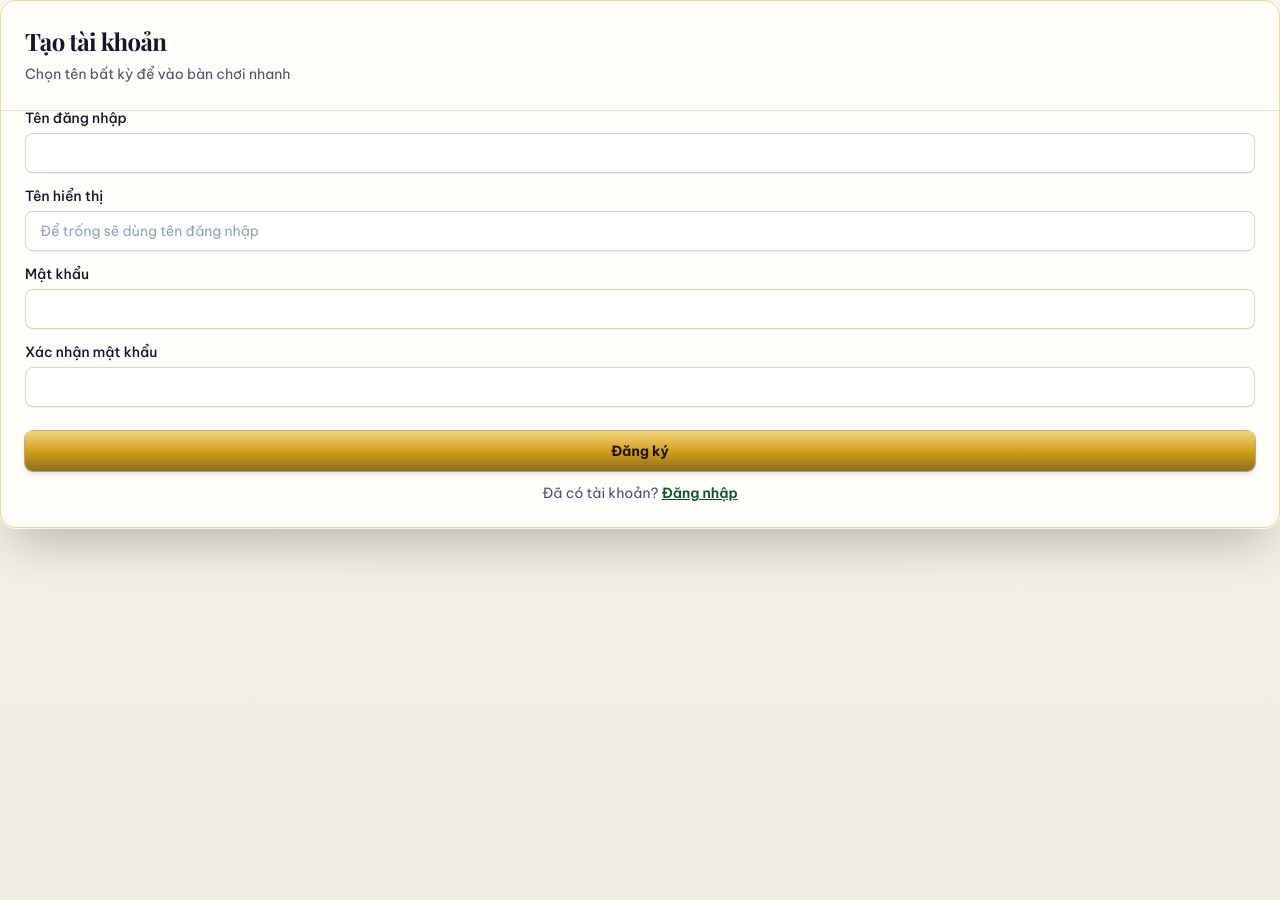
RegisterPage › shows validation errors and does not call the API for invalid input
Type "An" into the field labelled "Tên hiển thị".
click(640, 231); type("An")  # box [25,211,1255,251]
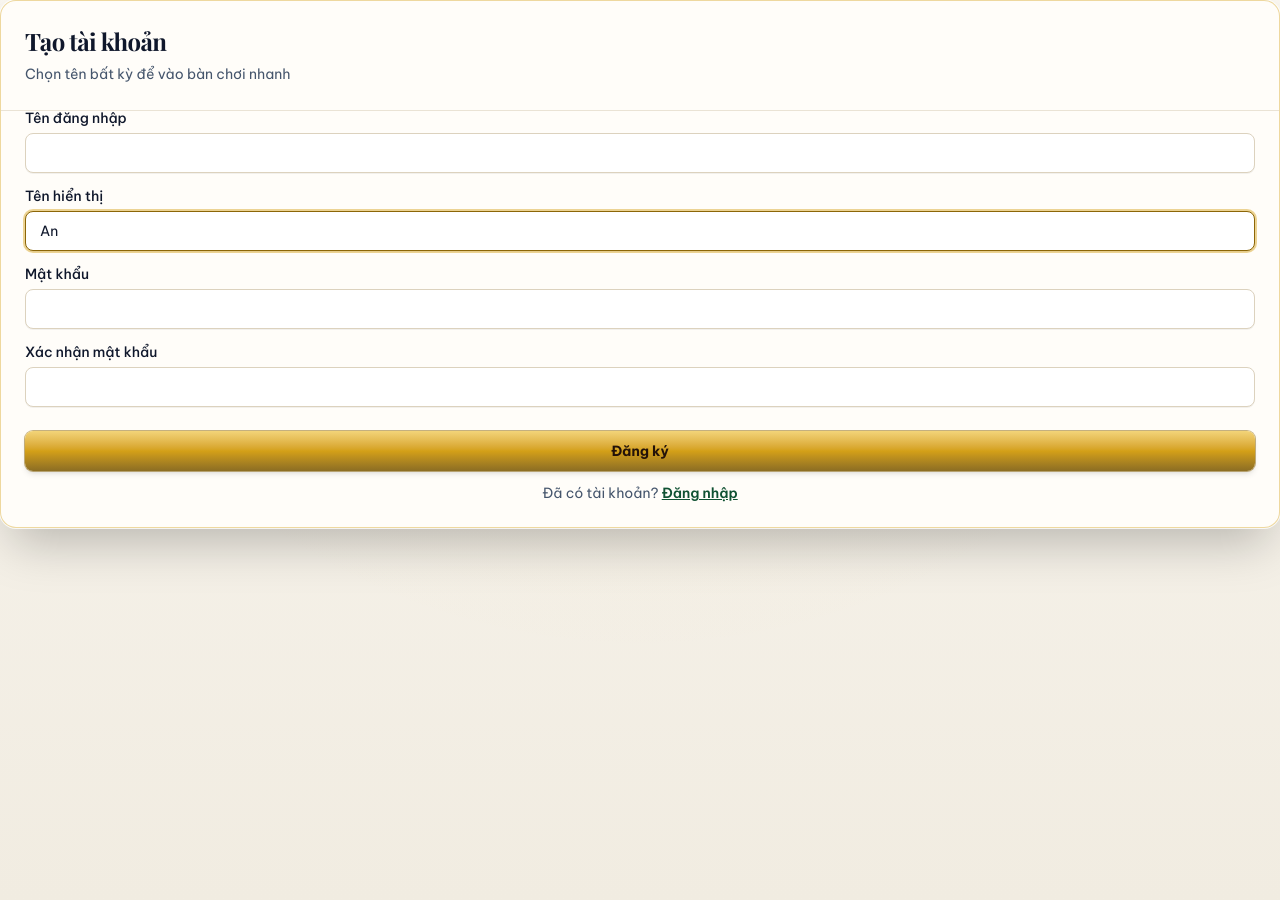
Type "secret123" into the password field labelled "Mật khẩu".
click(640, 309); type("secret123")  # box [25,289,1255,329]
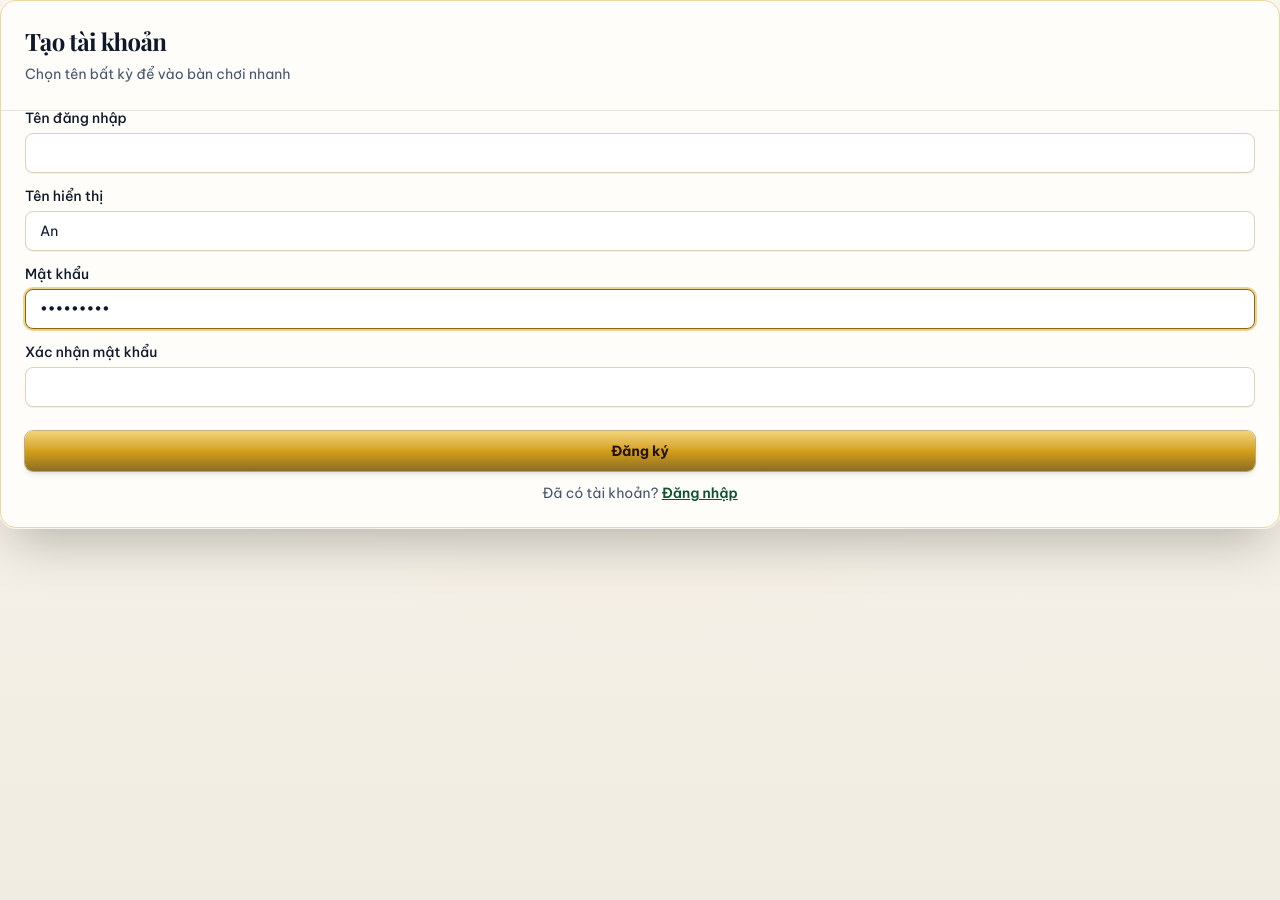
Type "other1234" into the password field labelled "Xác nhận mật khẩu".
click(640, 387); type("other1234")  # box [25,367,1255,407]
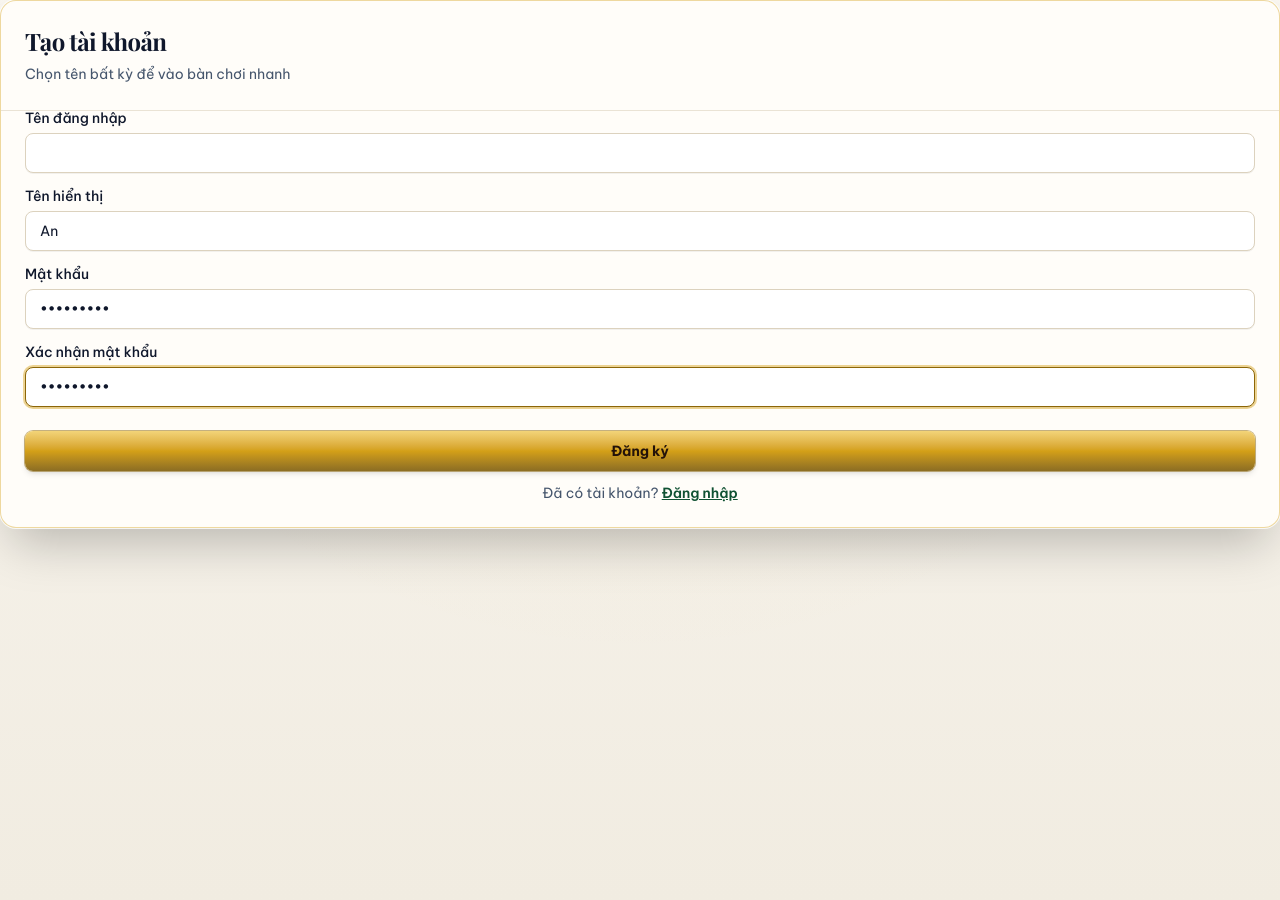
Click the button "Đăng ký".
click(640, 451)  # box [25,431,1255,471]
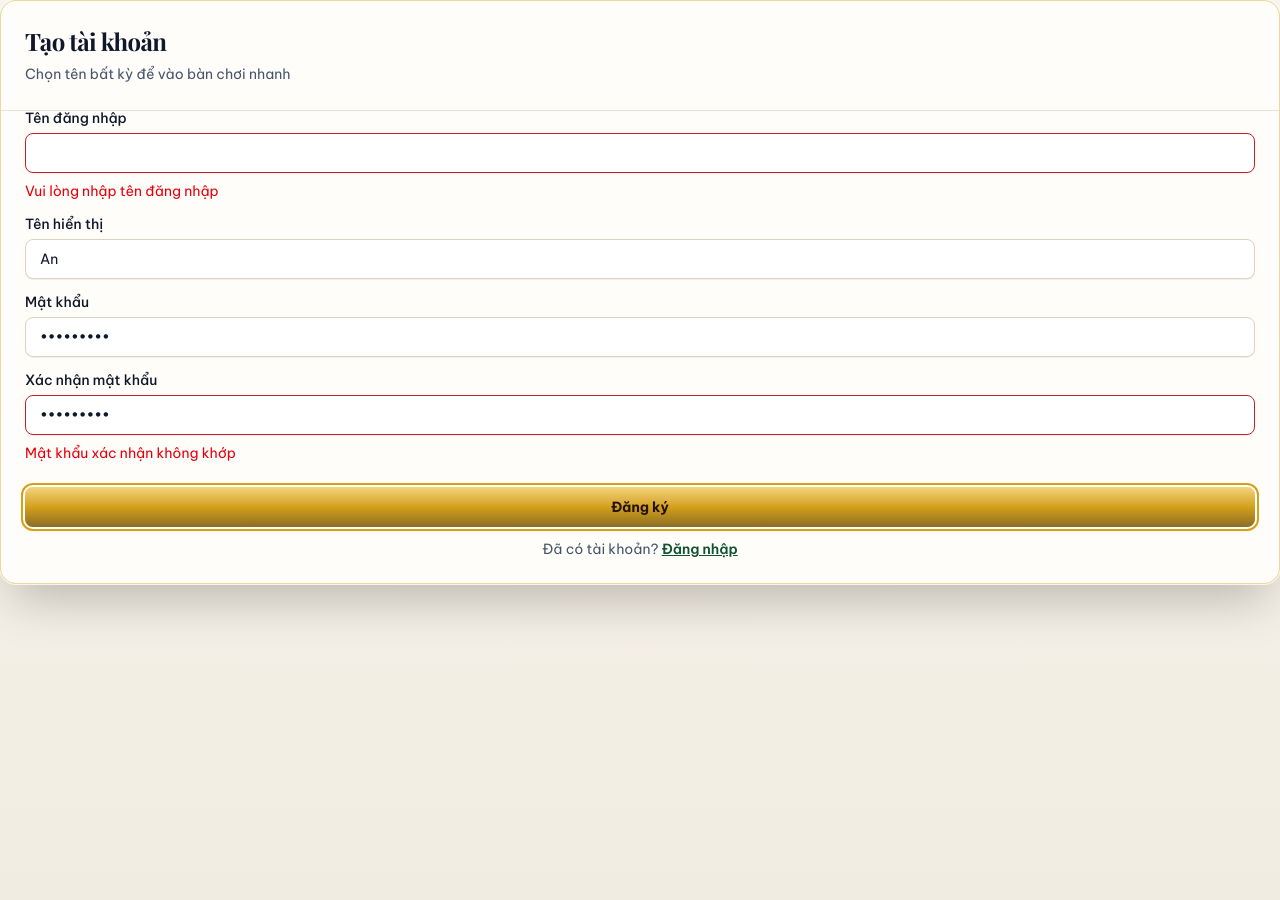
Now the text "Vui lòng nhập tên đăng nhập" is shown, box [25,182,219,200]
Now the text "Mật khẩu xác nhận không khớp" is shown, box [25,444,236,462]
